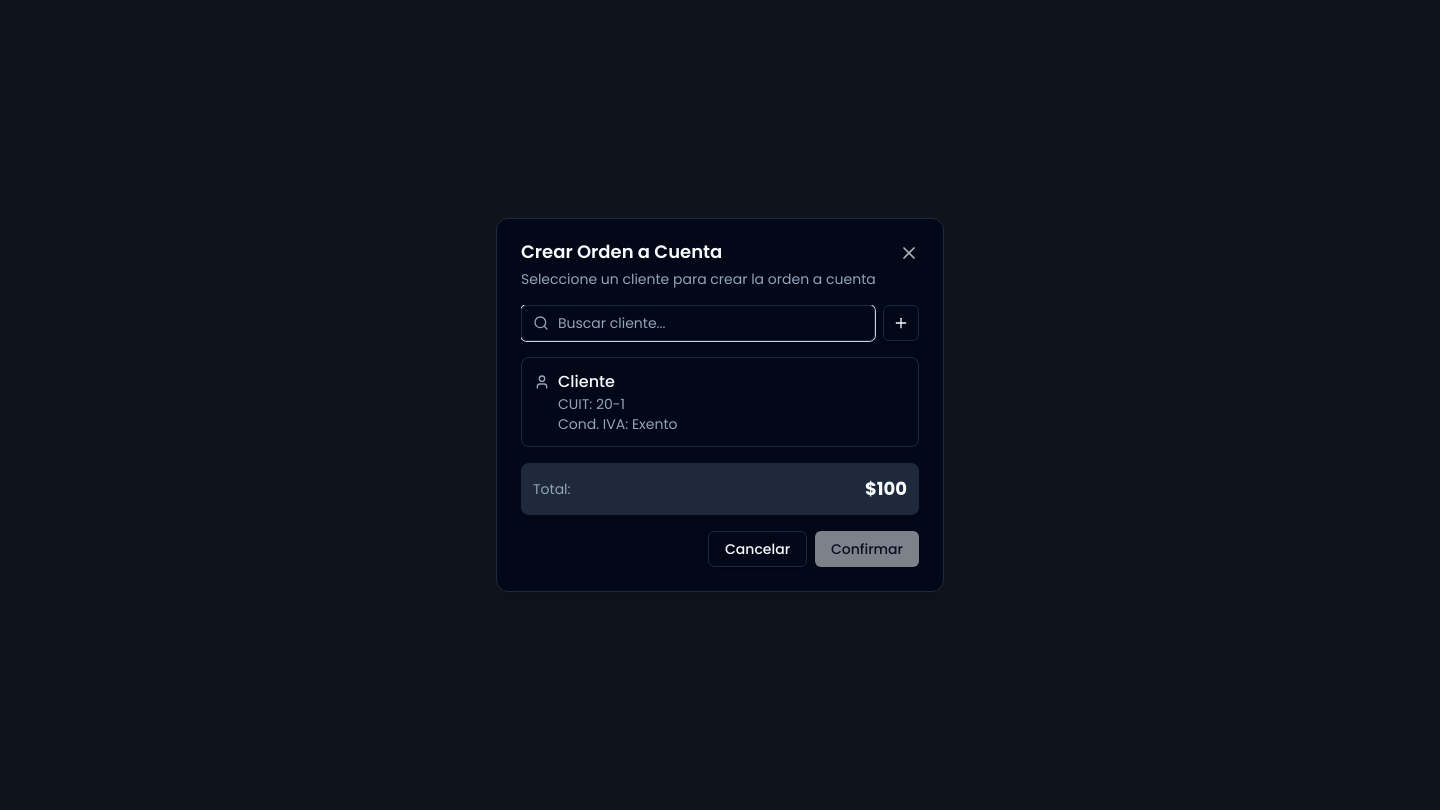
Test: ClientSelectionModal responsive layout › keeps the selected-client fields, total and confirmation reachable without horizontal overflow
The width and height of the screenshot is (1440, 810).
Step 1. Click the text "Cliente" → (586, 382), box [558,370,615,394]
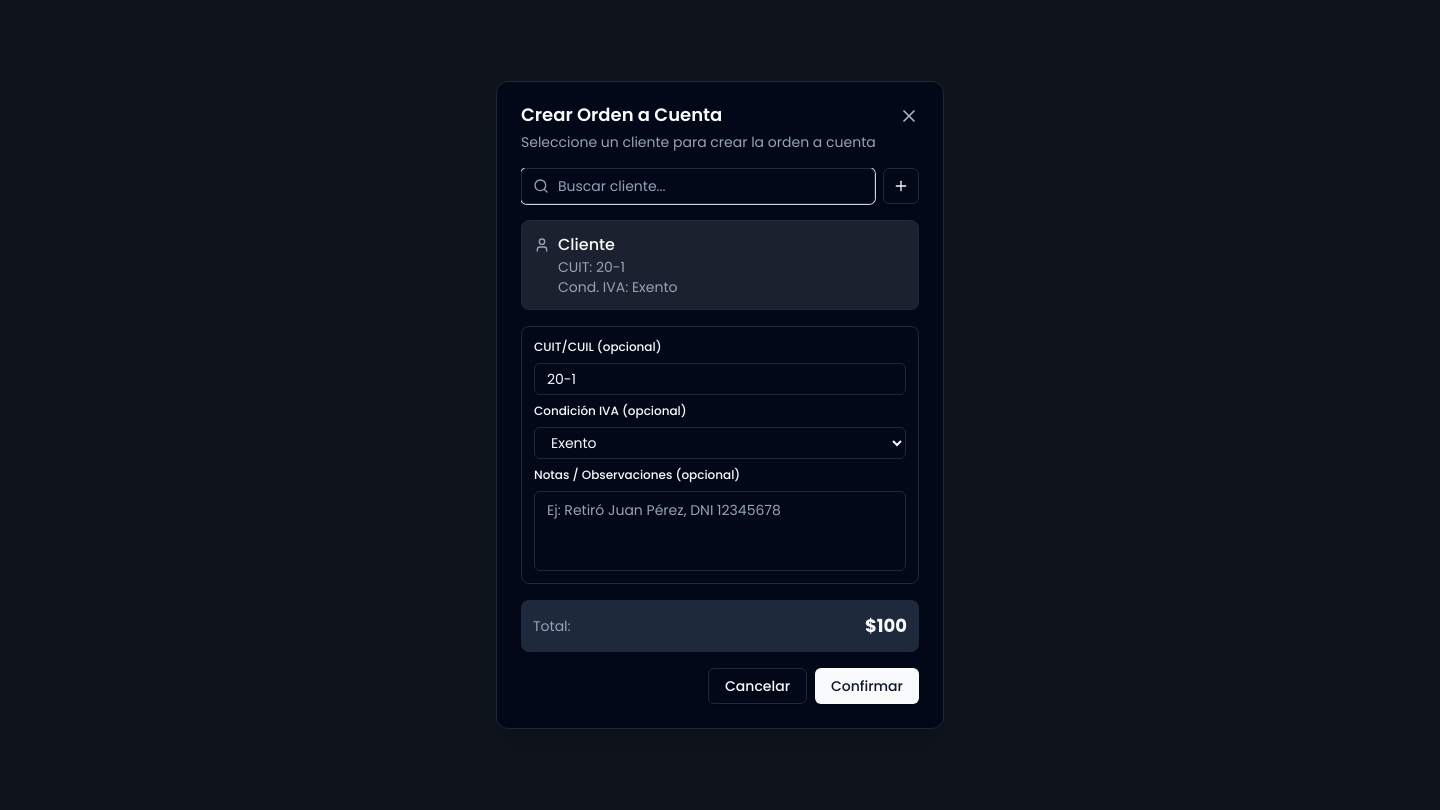
Check: the field labelled "CUIT/CUIL (opcional)" is shown, box [534,363,906,395]
Check: the dropdown labelled "Condición IVA (opcional)" is shown, box [534,427,906,459]
Check: the text box labelled "Notas / Observaciones (opcional)" is shown, box [534,491,906,571]
